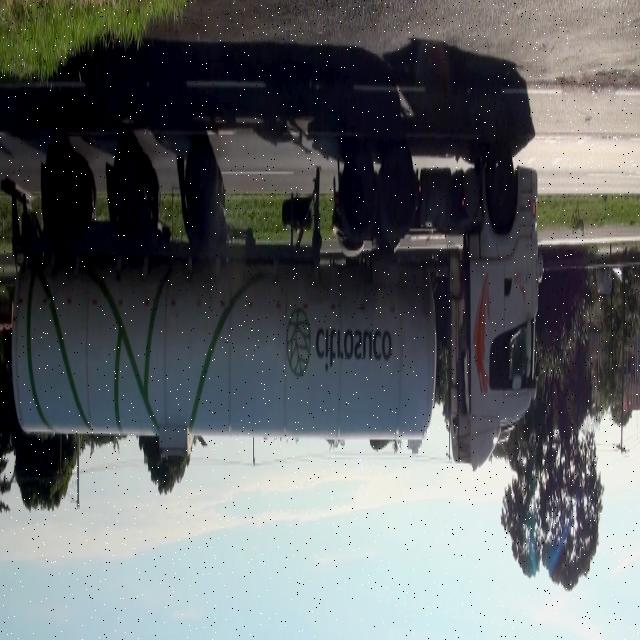-axle: (182, 147, 226, 240), (110, 139, 150, 239), (44, 151, 84, 246), (381, 148, 418, 239), (486, 142, 518, 239), (345, 154, 375, 244)
